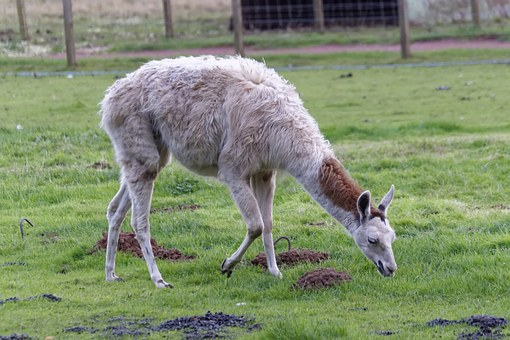alpaca: (98, 54, 398, 291)
